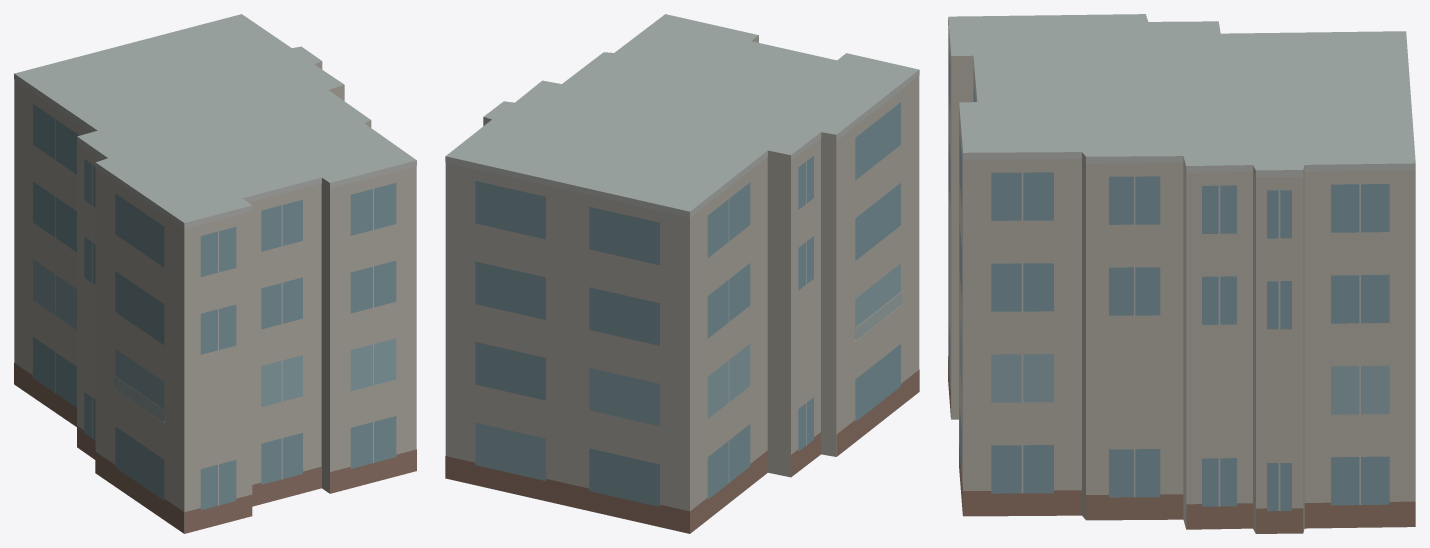
The model's file is survey-upis-32762530.glb.
3 views of the same model, side by side, from view 1: azimuth 30°, elevation 25°; view 2: azimuth 150°, elevation 25°; view 3: azimuth 270°, elevation 25° (orthographic). The views are drawn at different scales.
Visible parts, largest first — view 1: survey-upis-32762530.tmp; view 2: survey-upis-32762530.tmp; view 3: survey-upis-32762530.tmp.
Part boxes in pixels (x1,y1,x2,y2): survey-upis-32762530.tmp: [14, 14, 416, 533]; survey-upis-32762530.tmp: [445, 14, 919, 533]; survey-upis-32762530.tmp: [948, 14, 1415, 533].
Size of the model in its own units: 12 by 13 by 15.17.
